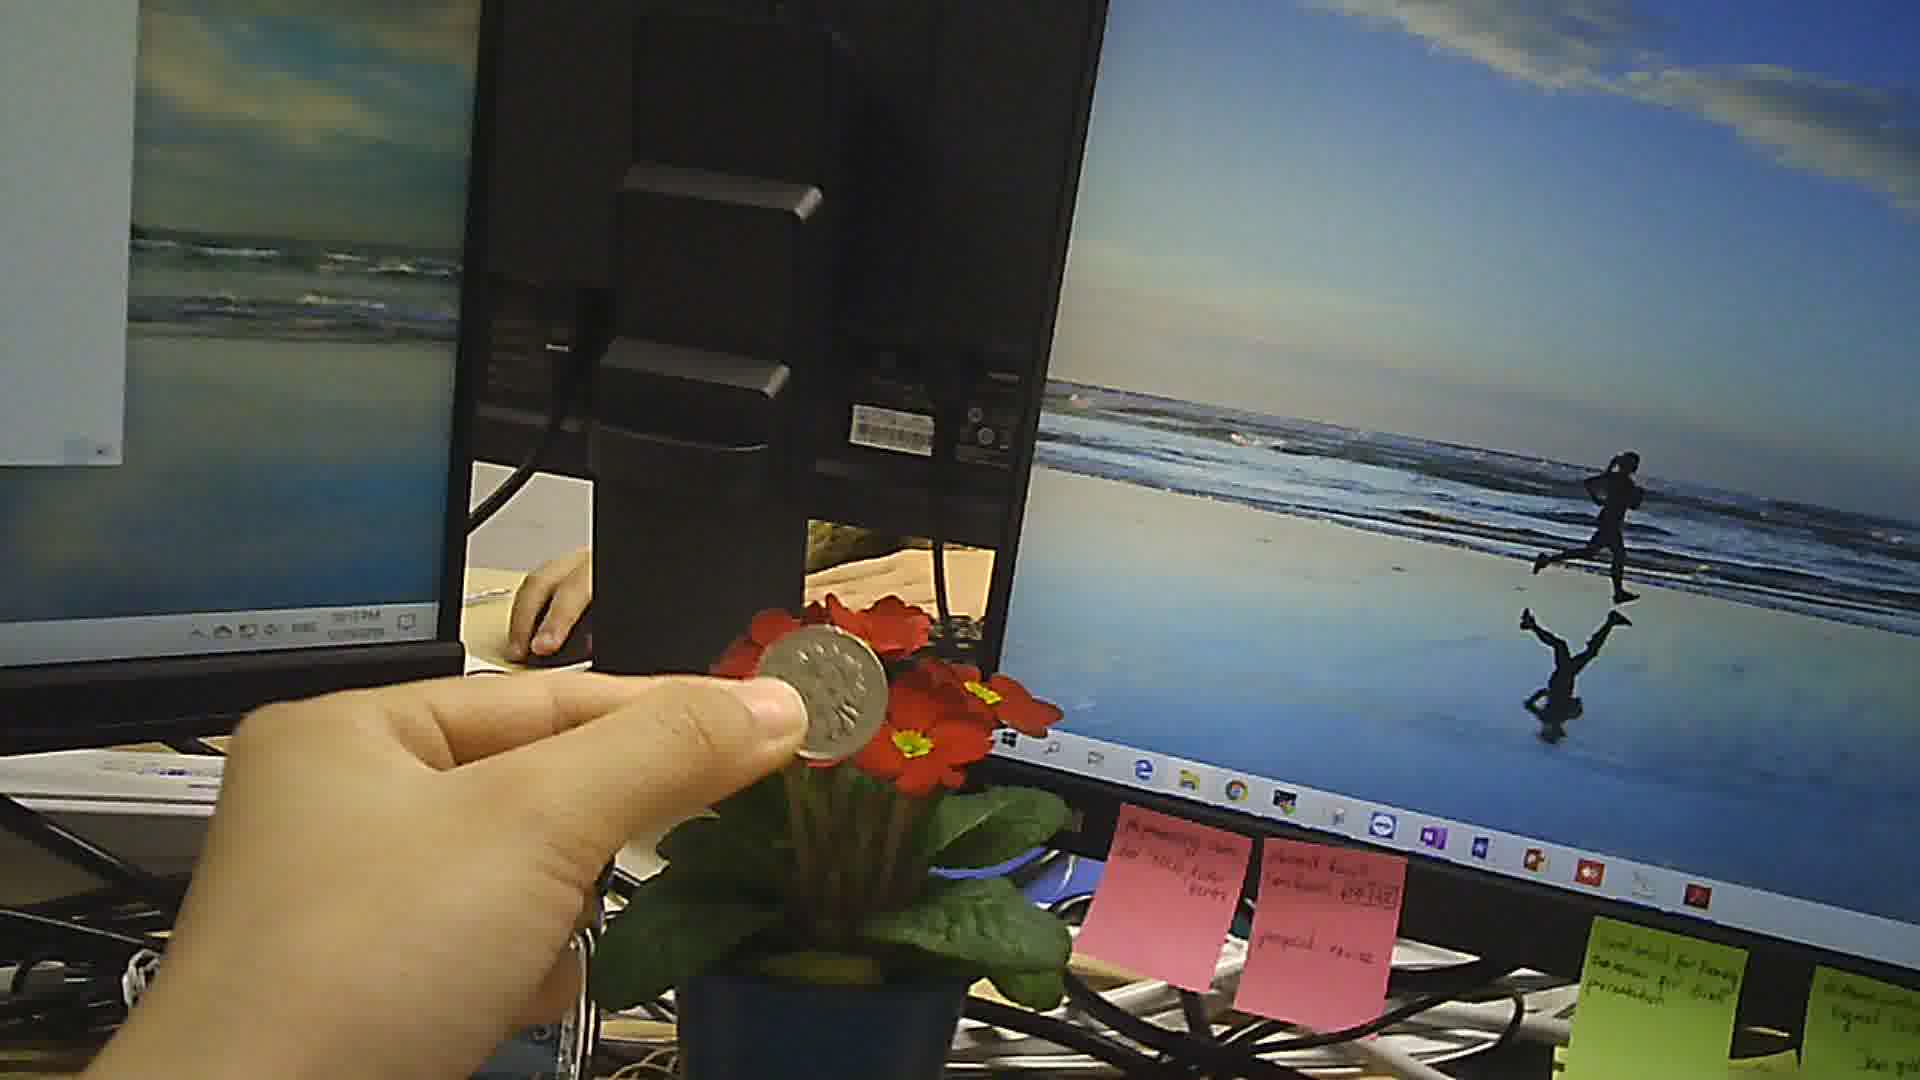100 Yen: (752, 615, 906, 785)
